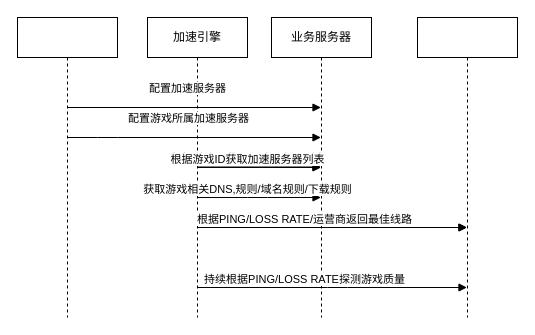
This 535x335 diagram has some shape labels left out. Here are the shapes that lost their labels. From the top down, the box of each, then its label:
(16, 16, 118, 318): 运维
(416, 16, 518, 318): 加速服务器
